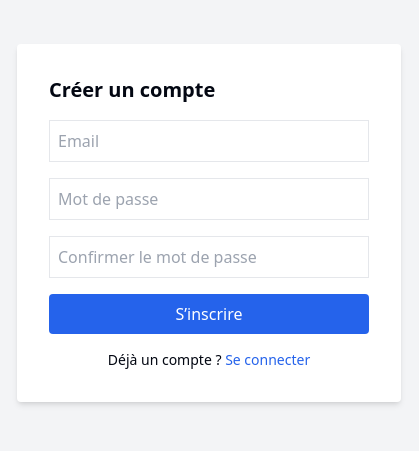
Scenario: SignUp › affiche une erreur si le mot de passe est trop court
Type "test@mail.com" into the field with placeholder "Email" at (209, 141), box [49,120,369,162]
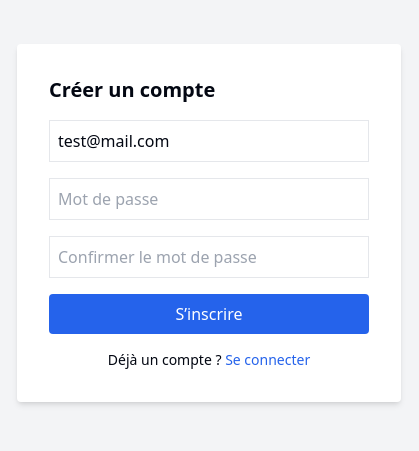
Type "123" into the password field with placeholder "Mot de passe" at (209, 199), box [49,178,369,220]
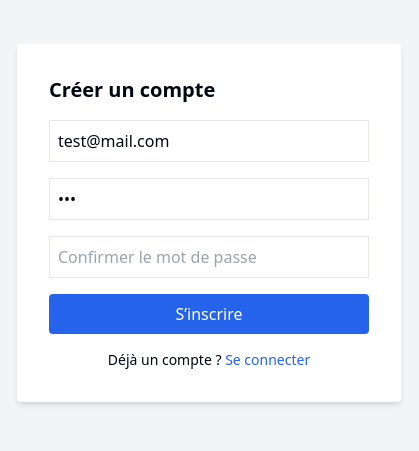
Type "123" into the password field with placeholder "Confirmer le mot de passe" at (209, 257), box [49,236,369,278]
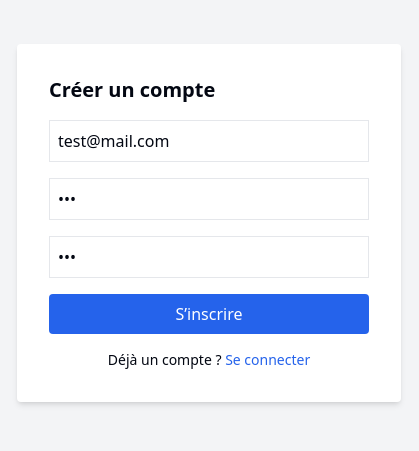
Click the button "S’inscrire" at (209, 314), box [49,294,369,334]
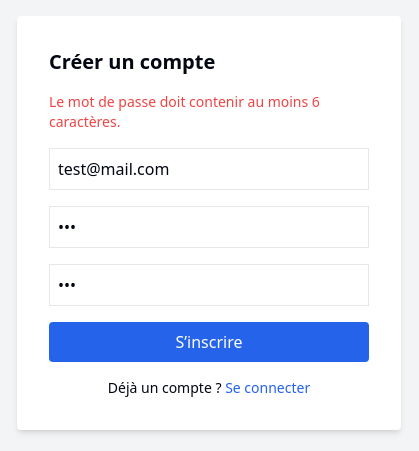
expect the text "Le mot de passe doit contenir au moins 6 caractères." is shown: met, box [49,92,320,131]
